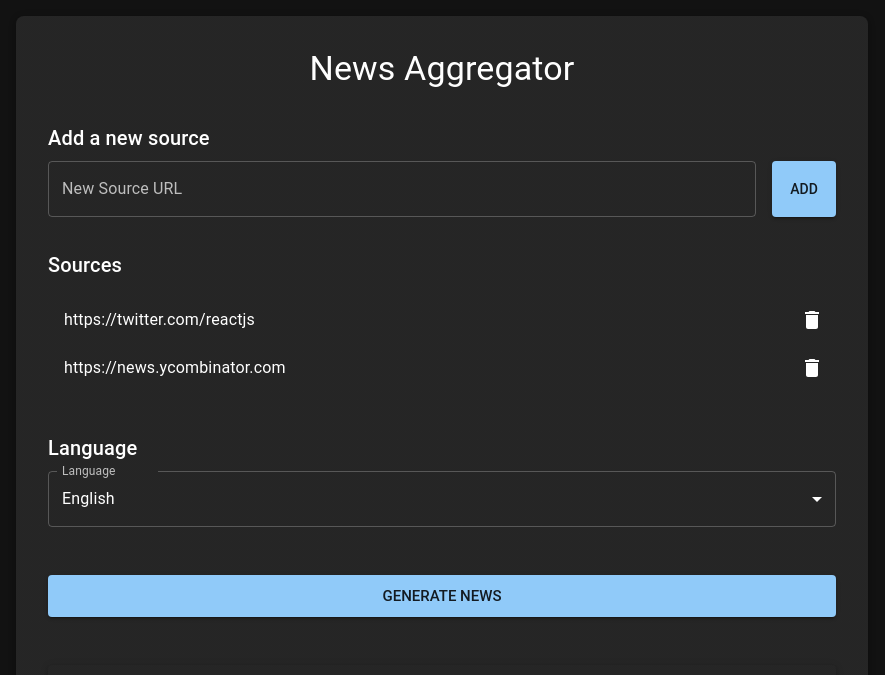
it: App Integration Tests › allows deleting a source
Expected: the text "https://twitter.com/reactjs" is shown, [64, 310, 255, 329]
Click the button named "delete" in the row of "https://twitter.com/reactjs": [812, 320] box [792, 300, 832, 340]
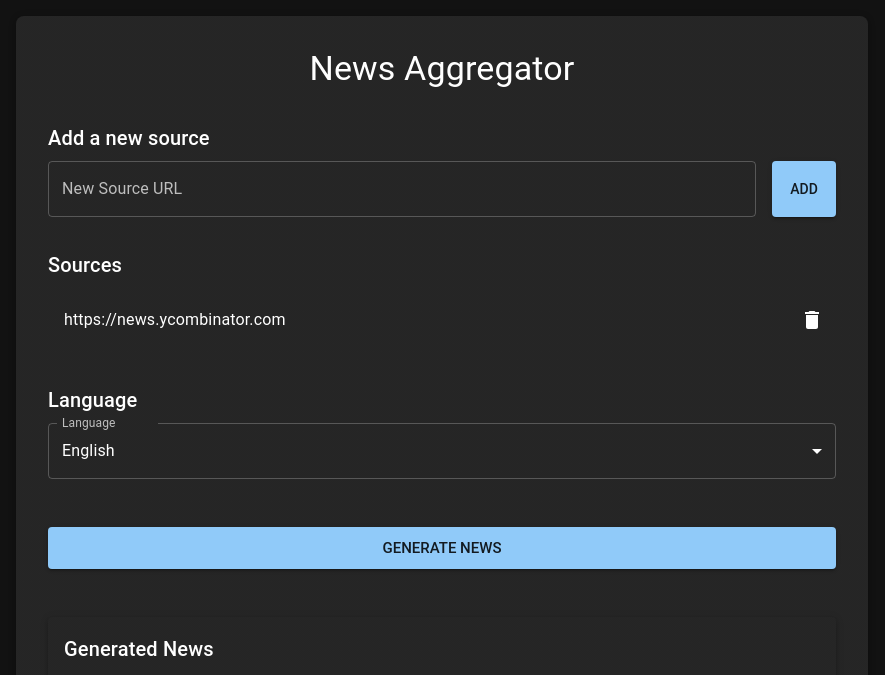
Result: the text "https://twitter.com/reactjs" is gone
